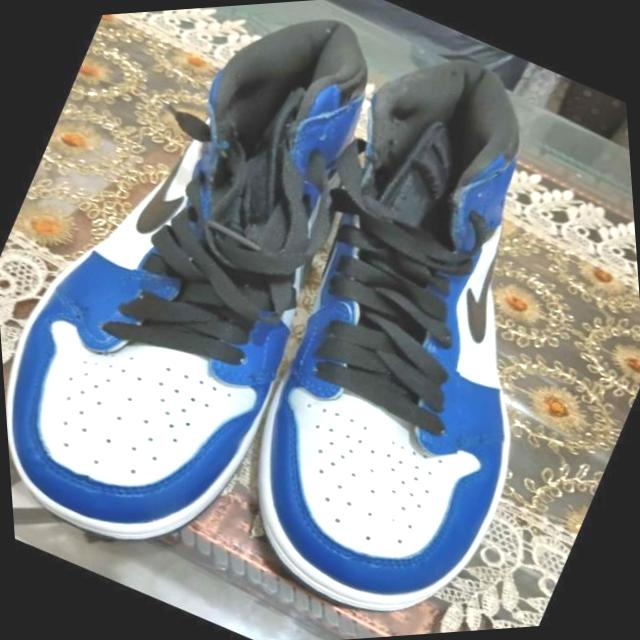nike_fake_jordan: (150, 13, 640, 640), (0, 0, 450, 585)
